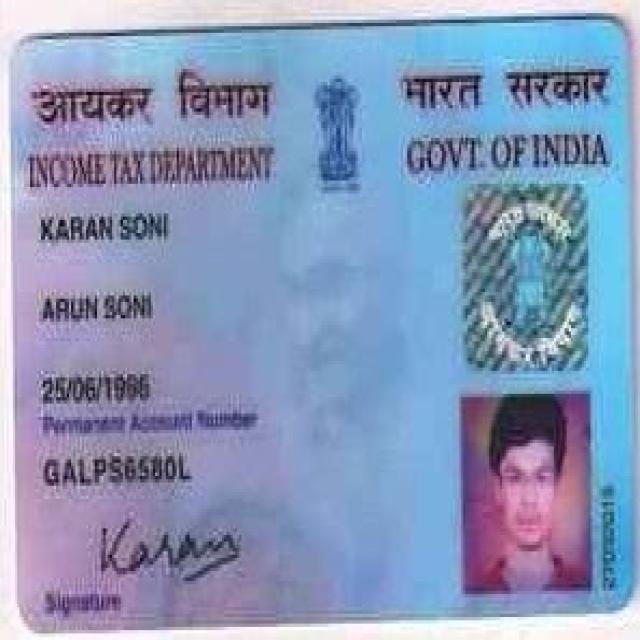pan_card: (16, 41, 629, 616)
